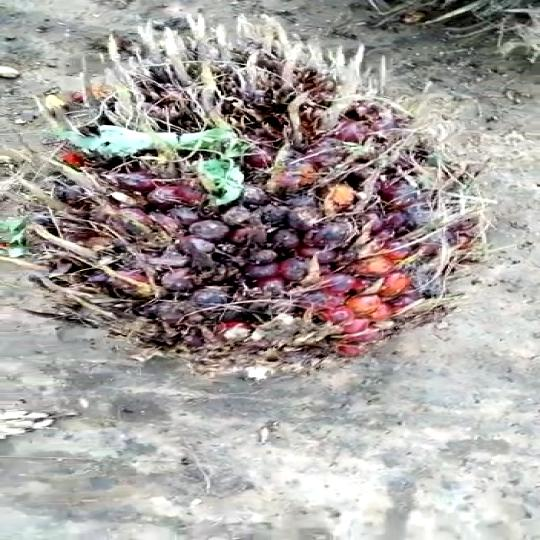masak: (0, 28, 540, 380)
